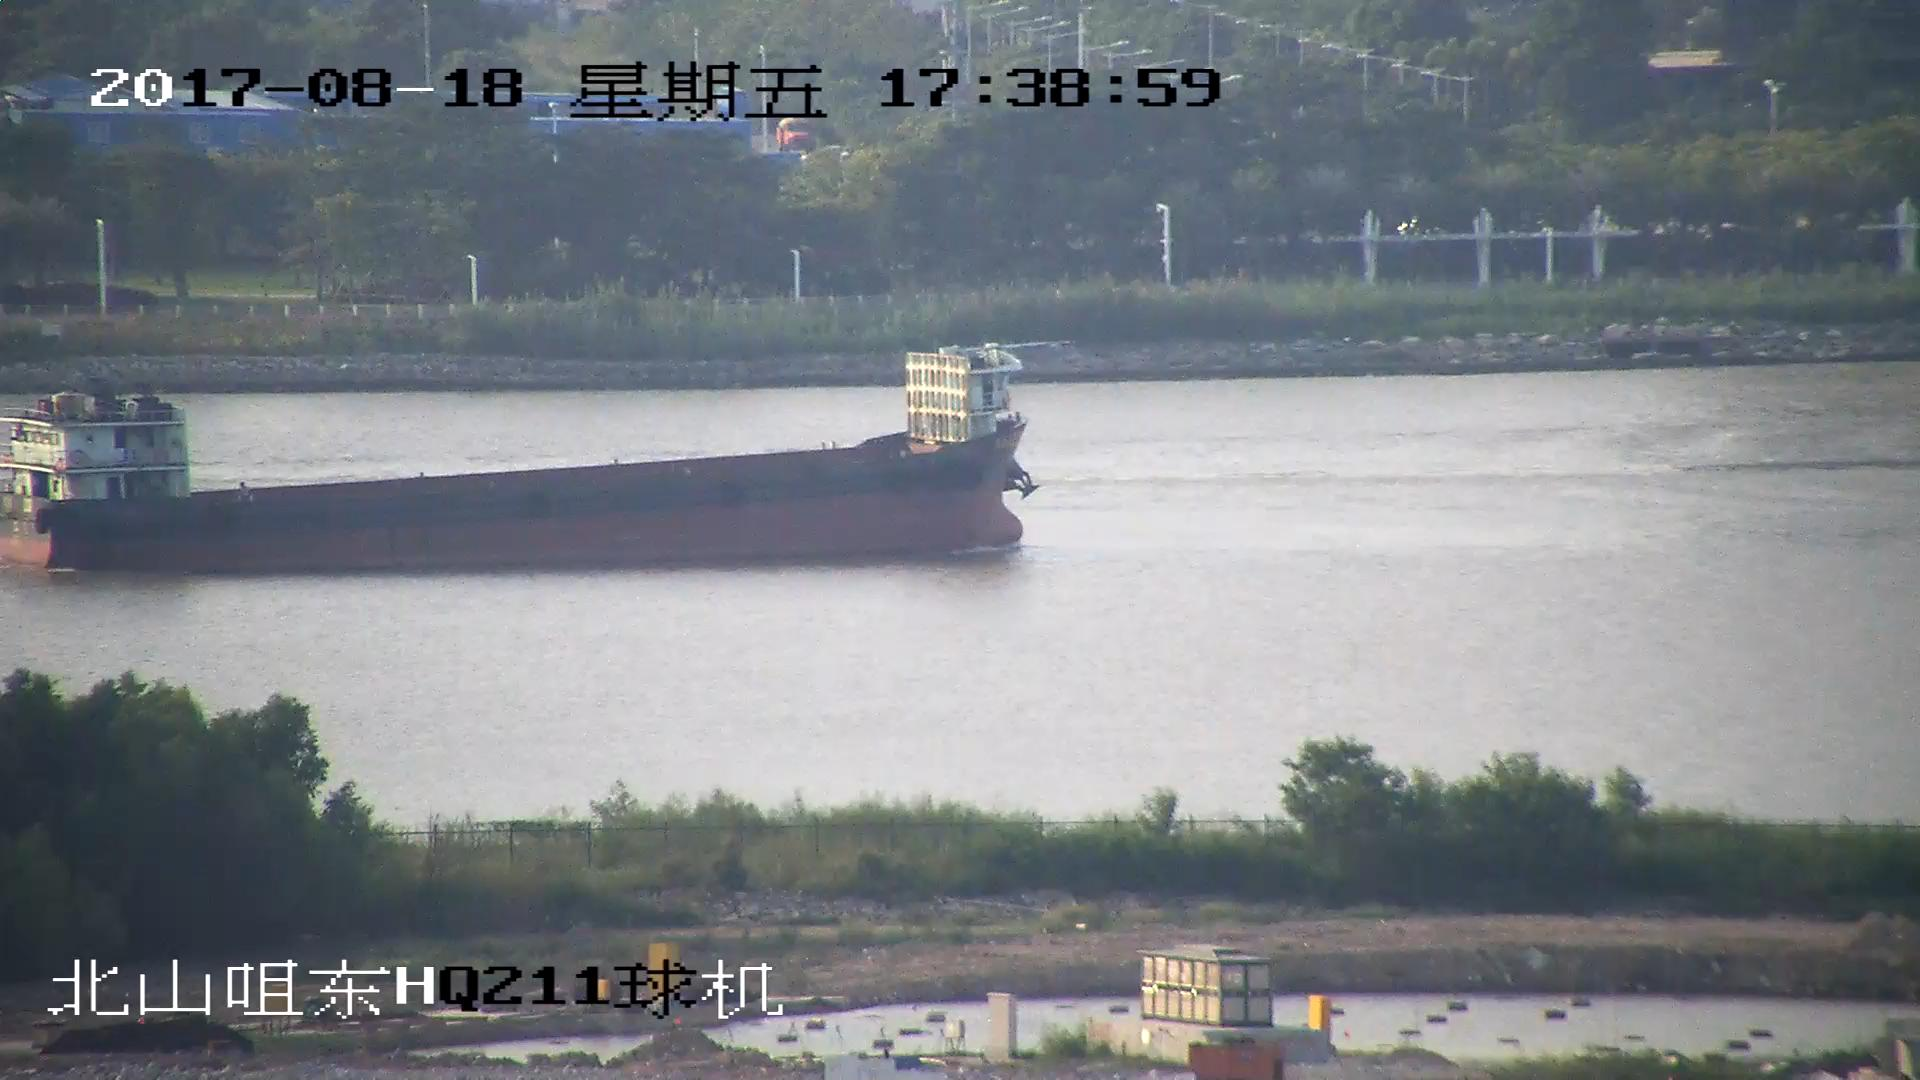general cargo ship: (1, 353, 1031, 560)
